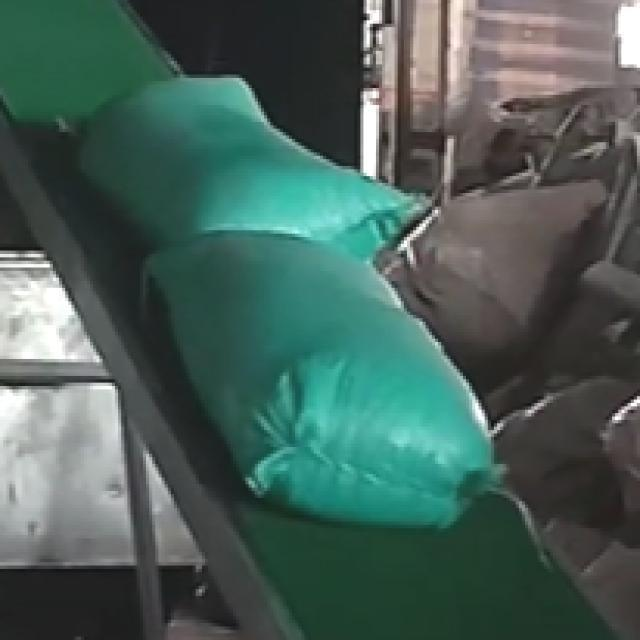gunny_bag: (146, 234, 491, 527), (78, 78, 426, 259)
